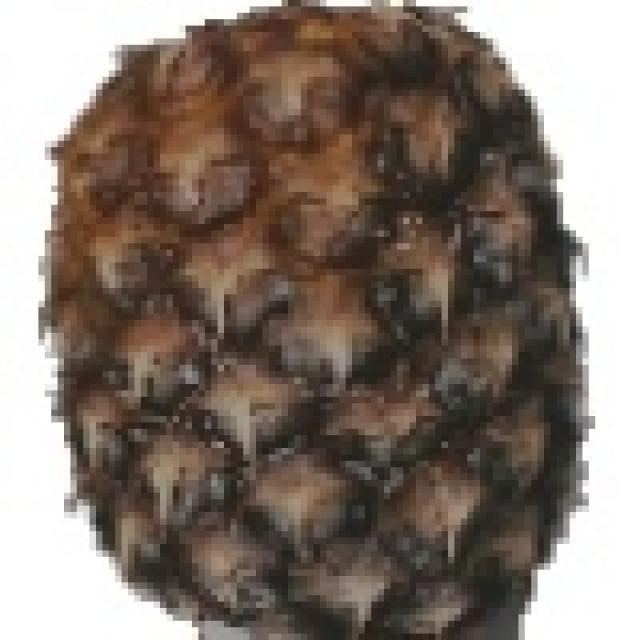pineapple: (40, 0, 586, 640)
